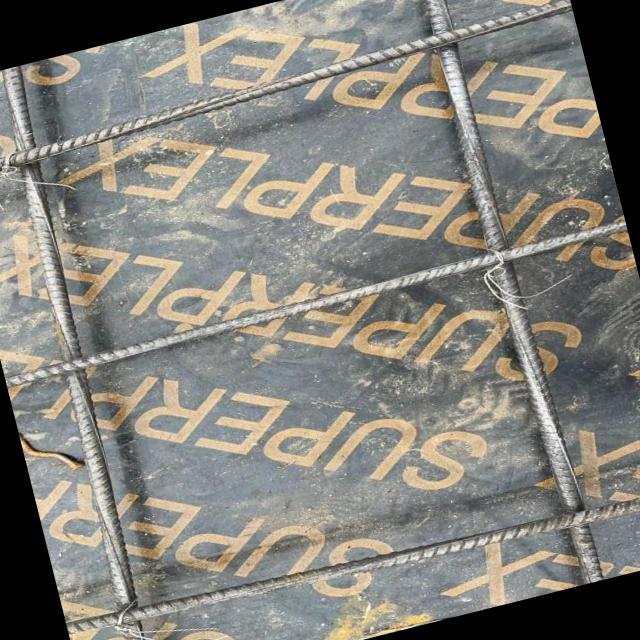ribbed bar: (413, 0, 604, 587), (4, 218, 628, 388), (0, 0, 576, 184), (0, 64, 176, 640), (65, 467, 640, 640)
